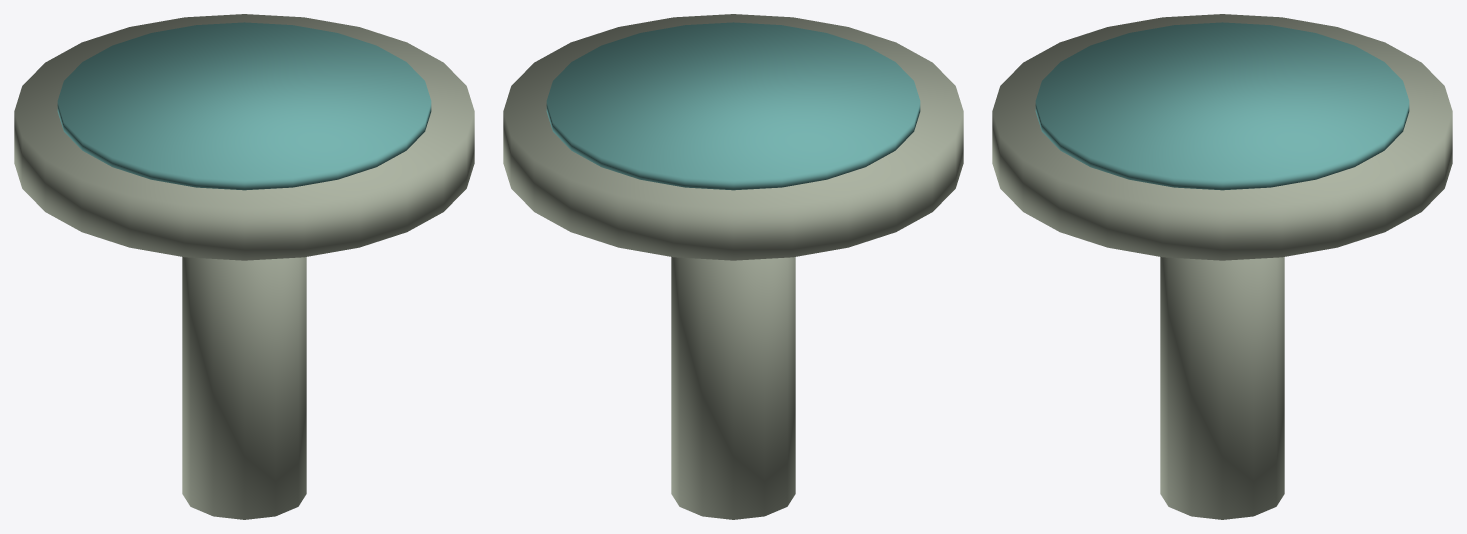
File: prop-birdbath.glb
3 renders of one model, left to right at view 1: azimuth 30°, elevation 25°; view 2: azimuth 150°, elevation 25°; view 3: azimuth 270°, elevation 25°, orthographic.
Parts seen in each view (by area): view 1: prop-birdbath_rock, Basin water; view 2: prop-birdbath_rock, Basin water; view 3: prop-birdbath_rock, Basin water.
Boxes of the visible parts, bbox=[...] form: prop-birdbath_rock: bbox=[14, 14, 474, 519]; Basin water: bbox=[57, 22, 431, 190]; prop-birdbath_rock: bbox=[503, 14, 963, 519]; Basin water: bbox=[546, 22, 920, 190]; prop-birdbath_rock: bbox=[992, 14, 1452, 519]; Basin water: bbox=[1035, 22, 1409, 190].
Size of the model in its own units: 0.96 by 0.9025 by 0.96.
